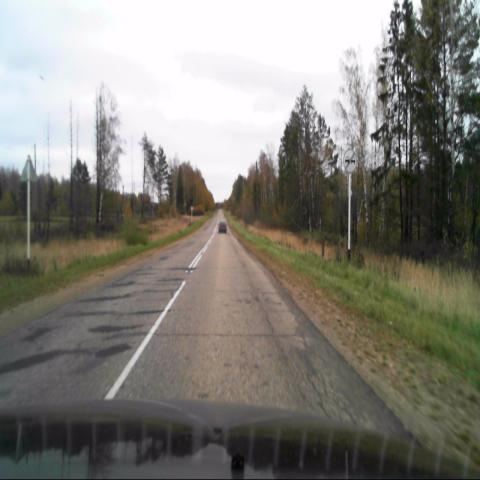3_21: (343, 148, 356, 173)
